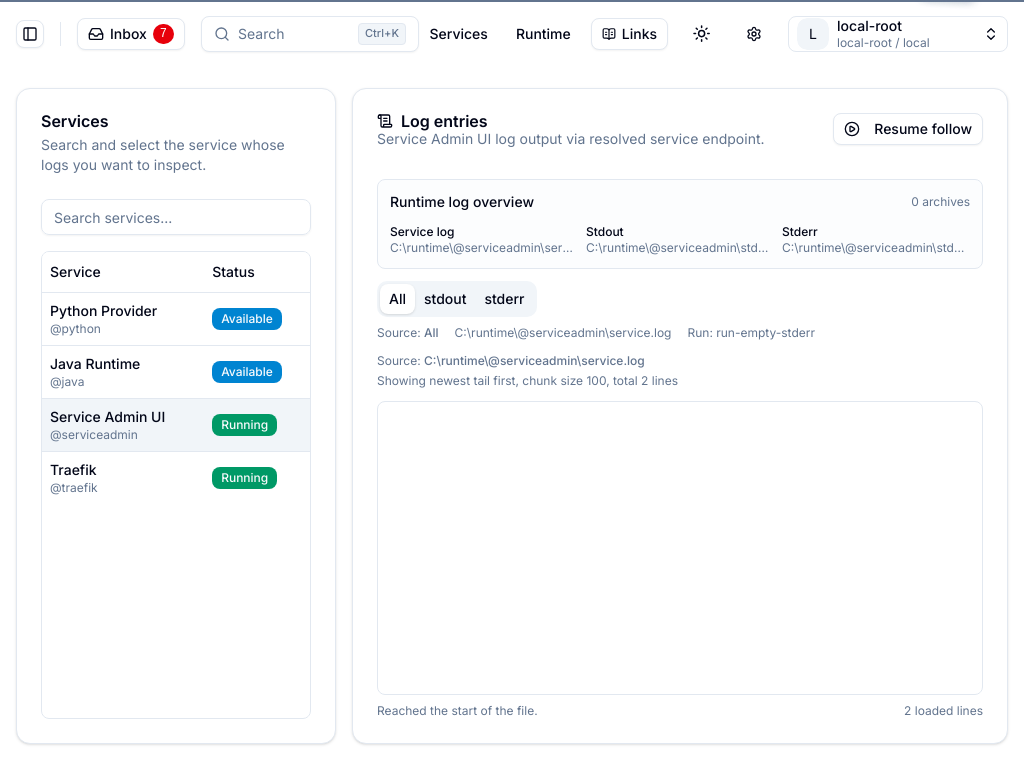
Test: logs page operator states › keeps the file editor for empty stderr and treats combined as All
Expected: the tab "All" is shown, top-left (380, 284), bottom-right (415, 314)
Click the tab "stderr": [505, 299] box top-left (476, 284), bottom-right (534, 314)
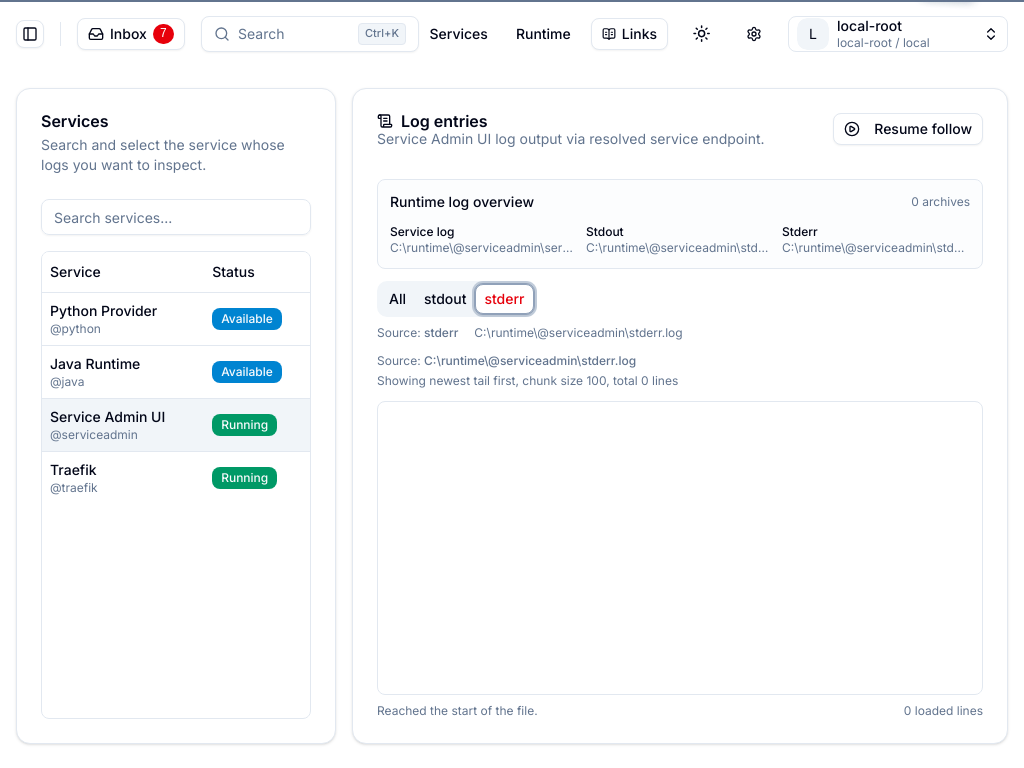
Now the text "0 loaded lines" is shown, box top-left (904, 703), bottom-right (983, 719)
